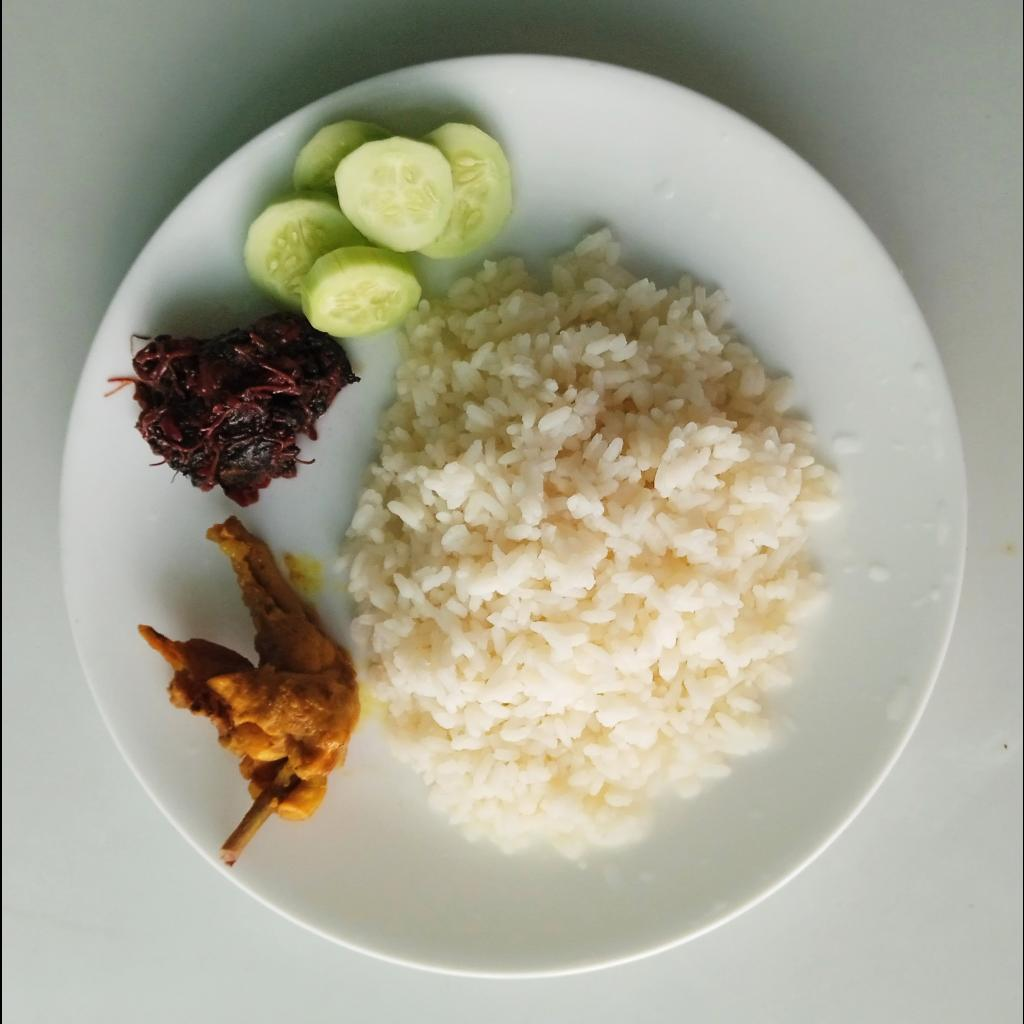chicken: (133, 517, 360, 870)
cucumber: (242, 119, 516, 340)
lal-shak: (132, 311, 359, 511)
rice: (347, 223, 840, 847)
